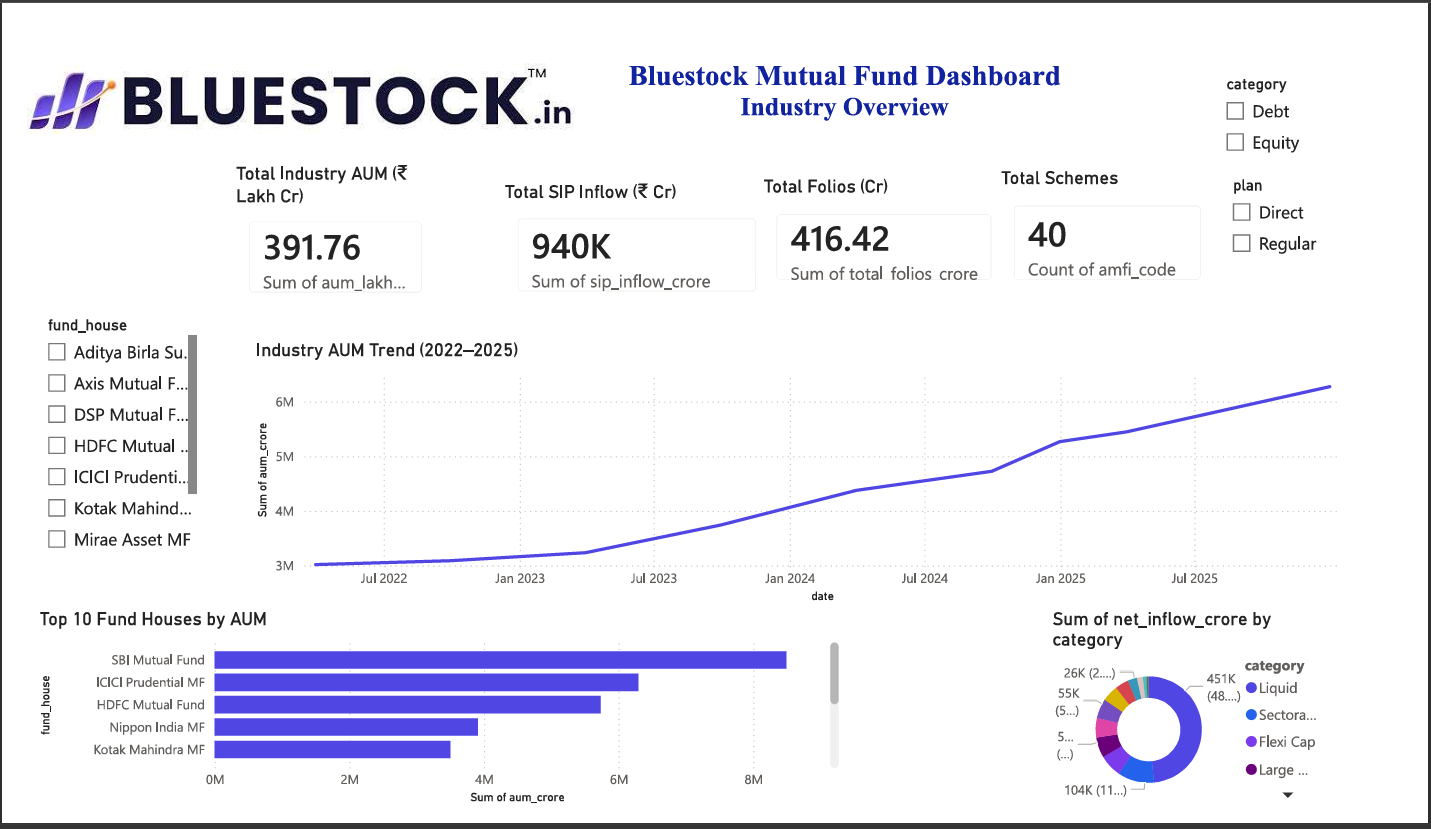

Layout of this report page (visuals, bound fields, positions):
{"tool":"powerbi","page":{"name":"Fund Overview","canvas":[1280,720],"ordinal":0},"visuals":[{"type":"lineChart","title":"Industry AUM Trend (2022–2025)","fields":{"Category":["03_aum_by_fund_house.date"],"Y":["Sum(03_aum_by_fund_house.aum_crore)"]},"box":[207.7,281.8,1030.9,250.3],"z":0},{"type":"cardVisual","title":"Total Industry AUM (₹ Lakh Cr)","fields":{"Data":["Sum(03_aum_by_fund_house.aum_lakh_crore)"]},"box":[189.1,116.8,194.7,139.1],"z":1000},{"type":"cardVisual","title":"Total SIP Inflow (₹ Cr)","fields":{"Data":["Sum(04_monthly_sip_inflows.sip_inflow_crore)"]},"box":[439.4,133.5,255.9,122.4],"z":2000},{"type":"cardVisual","title":"Total Folios (Cr)","fields":{"Data":["Sum(06_industry_folio_count.total_folios_crore)"]},"box":[680.5,129.8,233.6,115],"z":3000},{"type":"cardVisual","title":"Total Schemes","fields":{"Data":["Count(01_fund_master.amfi_code)"]},"box":[901.1,122.4,207.7,122.4],"z":4000},{"type":"clusteredBarChart","title":"Top 10 Fund Houses by AUM","fields":{"Category":["03_aum_by_fund_house.fund_house"],"Y":["Sum(03_aum_by_fund_house.aum_crore)"]},"box":[5.6,532.2,754.7,187.3],"z":5000},{"type":"donutChart","fields":{"Category":["05_category_inflows.category"],"Y":["Sum(05_category_inflows.net_inflow_crore)"]},"box":[949.3,532.2,267,187.3],"z":6000},{"type":"slicer","fields":{"Values":["01_fund_master.fund_house"]},"box":[5.6,255.9,157.6,235.5],"z":7000},{"type":"slicer","fields":{"Values":["01_fund_master.plan"]},"box":[1108.8,126.1,115,85.3],"z":8000},{"type":"textbox","box":[540,17,441,86],"z":9000},{"type":"image","box":[0,0,509.9,116.8],"z":10000},{"type":"slicer","fields":{"Values":["01_fund_master.category"]},"box":[1103.2,31.5,176.1,85.3],"z":11000}]}

Visuals, with their boxes in screenshot pixels (x1, y1, x2, y2), scaled from the page's 1280x720 canvas onto the 1431x829 screenshot:
"Industry AUM Trend (2022–2025)" lineChart: 232/324/1385/613
"Total Industry AUM (₹ Lakh Cr)" cardVisual: 211/134/429/295
"Total SIP Inflow (₹ Cr)" cardVisual: 491/154/777/295
"Total Folios (Cr)" cardVisual: 761/149/1022/282
"Total Schemes" cardVisual: 1007/141/1240/282
"Top 10 Fund Houses by AUM" clusteredBarChart: 6/613/850/828
donutChart - 05_category_inflows.category x Sum(05_category_inflows.net_inflow_crore): 1061/613/1360/828
slicer - 01_fund_master.fund_house: 6/295/182/566
slicer - 01_fund_master.plan: 1240/145/1368/243
textbox: 604/20/1097/119
image: 0/0/570/134
slicer - 01_fund_master.category: 1233/36/1430/134
